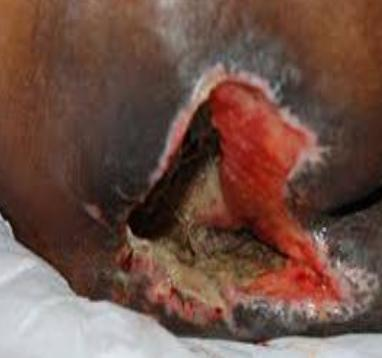Stage4: (60, 52, 381, 332)
